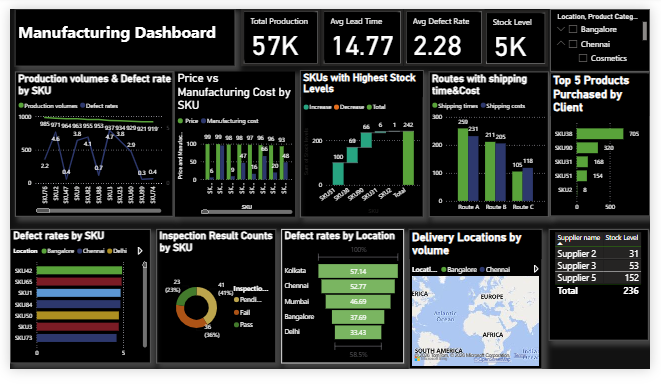

Layout of this report page (visuals, bound fields, positions):
{"tool":"powerbi","page":{"name":"Manufacturing","canvas":[1280,720],"ordinal":2},"visuals":[{"type":"donutChart","title":"Inspection Result Counts by SKU","fields":{"Category":["Data Cleaning.Inspection results"],"Y":["CountNonNull(Data Cleaning.SKU)"]},"box":[291.4,440,240,268.6],"z":0},{"type":"lineChart","title":"Production volumes & Defect rate  by SKU","fields":{"Category":["Data Cleaning.SKU"],"Y":["Sum(Data Cleaning.Production volumes)"],"Y2":["Sum(Data Cleaning.Defect rates)"]},"box":[10,125.7,317.1,290],"z":1000},{"type":"cardVisual","fields":{"Data":["_Measure.Average Lead Time"]},"box":[621.4,0,164.3,114.3],"z":2000},{"type":"funnel","title":"Defect rates by Location","fields":{"Category":["Data Cleaning.Location"],"Y":["Sum(Data Cleaning.Defect rates)"]},"box":[542.9,440,245.7,268.6],"z":3000},{"type":"barChart","title":"Defect rates by SKU","fields":{"Category":["Data Cleaning.SKU"],"Y":["Sum(Data Cleaning.Defect rates)"],"Series":["Data Cleaning.Location"]},"box":[0,440,281.4,268.6],"z":4000},{"type":"slicer","fields":{"Values":["Data Cleaning.Location","Data Cleaning.Product Category"]},"box":[1080,0,200,125.7],"z":5000},{"type":"cardVisual","fields":{"Data":["_Measure.Total Production"]},"box":[462.9,0,158.6,114.3],"z":6000},{"type":"cardVisual","fields":{"Data":["_Measure.Stcok Level"]},"box":[948.6,1.4,128.6,112.9],"z":7000},{"type":"cardVisual","fields":{"Data":["_Measure.Avg Defect Rate"]},"box":[787.1,0,161.4,114.3],"z":8000},{"type":"textbox","box":[10,0,440,114.3],"z":9000},{"type":"waterfallChart","title":"SKUs with Highest Stock Levels","fields":{"Category":["Data Cleaning.SKU"],"Y":["Sum(Data Cleaning.Stock levels)"]},"box":[580,121.4,247.1,294.3],"z":10000},{"type":"clusteredColumnChart","title":"Routes with shipping time&Cost","fields":{"Category":["Data Cleaning.Routes"],"Y":["Sum(Data Cleaning.Shipping times)","Sum(Data Cleaning.Shipping costs)"]},"box":[837.1,124.3,240,291.4],"z":11000},{"type":"clusteredColumnChart","title":"Price vs Manufacturing Cost by SKU","fields":{"Y":["Sum(Data Cleaning.Price)","Sum(Data Cleaning.Manufacturing costs)"],"Category":["Data Cleaning.SKU"]},"box":[330,125.7,240,290],"z":12000},{"type":"clusteredBarChart","title":"Top 5 Products Purchased by Client","fields":{"Category":["Data Cleaning.SKU"],"Y":["_Measure.Units Sold"]},"box":[1080,128.6,200,287.1],"z":13000},{"type":"map","title":"Delivery Locations by volume","fields":{"Series":["Data Cleaning.Location"],"Size":["Sum(Data Cleaning.Revenue generated)"]},"box":[798.6,440,267.1,280],"z":14000},{"type":"tableEx","fields":{"Values":["Data Cleaning.Supplier name","_Measure.Stock Level"]},"box":[1077.1,440,200,222.9],"z":15000}]}

Visuals, with their boxes on the page's 1280x720 design canvas (x1, y1, x2, y2). These are canvas units, not pixel positions in the 661x387 screenshot, which may show the page scaled, cropped or inside an application window:
"Inspection Result Counts by SKU" donutChart: select_region(291, 440, 531, 709)
"Production volumes & Defect rate  by SKU" lineChart: select_region(10, 126, 327, 416)
cardVisual - _Measure.Average Lead Time: select_region(621, 0, 786, 114)
"Defect rates by Location" funnel: select_region(543, 440, 789, 709)
"Defect rates by SKU" barChart: select_region(0, 440, 281, 709)
slicer - Data Cleaning.Location x Data Cleaning.Product Category: select_region(1080, 0, 1280, 126)
cardVisual - _Measure.Total Production: select_region(463, 0, 622, 114)
cardVisual - _Measure.Stcok Level: select_region(949, 1, 1077, 114)
cardVisual - _Measure.Avg Defect Rate: select_region(787, 0, 948, 114)
textbox: select_region(10, 0, 450, 114)
"SKUs with Highest Stock Levels" waterfallChart: select_region(580, 121, 827, 416)
"Routes with shipping time&Cost" clusteredColumnChart: select_region(837, 124, 1077, 416)
"Price vs Manufacturing Cost by SKU" clusteredColumnChart: select_region(330, 126, 570, 416)
"Top 5 Products Purchased by Client" clusteredBarChart: select_region(1080, 129, 1280, 416)
"Delivery Locations by volume" map: select_region(799, 440, 1066, 720)
tableEx - Data Cleaning.Supplier name x _Measure.Stock Level: select_region(1077, 440, 1277, 663)
